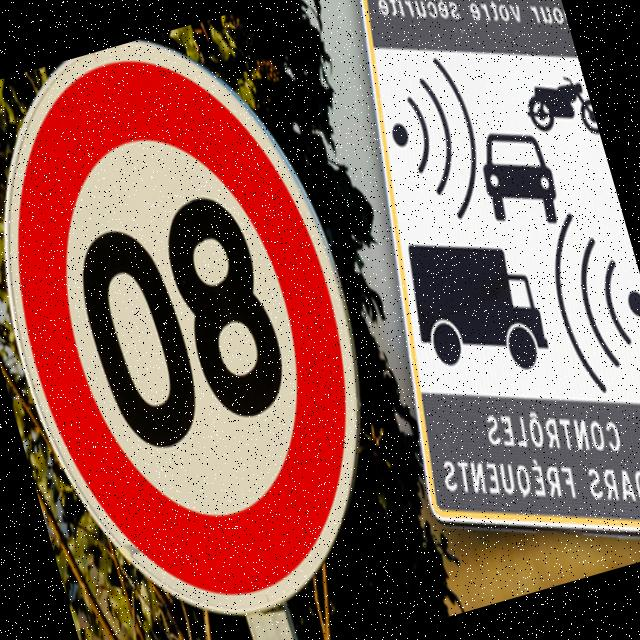speed_limit_80: (0, 3, 423, 640)
